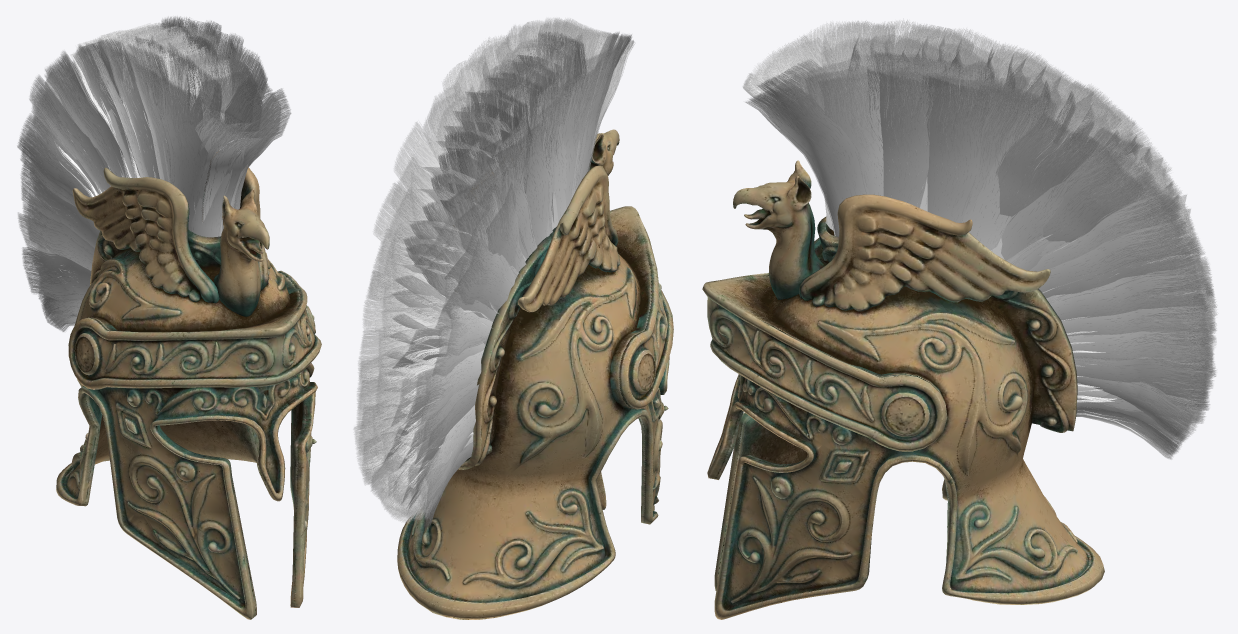
Rendered from 静物_其它_Game ready Warrior's Helmet_opt.glb.
3 views of the same model, side by side, from view 1: azimuth 30°, elevation 25°; view 2: azimuth 150°, elevation 25°; view 3: azimuth 270°, elevation 25° (orthographic). The views are drawn at different scales.
Parts seen in each view (by area): view 1: Griffin_head_low_lambert1_0, polySurface134_lambert2_0; view 2: polySurface134_lambert2_0, Griffin_head_low_lambert1_0; view 3: Griffin_head_low_lambert1_0, polySurface134_lambert2_0.
Part boxes in pixels (left/top/right/bottom): Griffin_head_low_lambert1_0: left=56, top=152, right=321, bottom=619; polySurface134_lambert2_0: left=17, top=16, right=291, bottom=331; polySurface134_lambert2_0: left=353, top=18, right=634, bottom=528; Griffin_head_low_lambert1_0: left=397, top=129, right=673, bottom=619; Griffin_head_low_lambert1_0: left=702, top=160, right=1104, bottom=619; polySurface134_lambert2_0: left=742, top=20, right=1217, bottom=459.
Bounding box in the file's own units: 0.1329 × 0.3 × 0.2504.
Materials: 2 (2 with a texture image).
